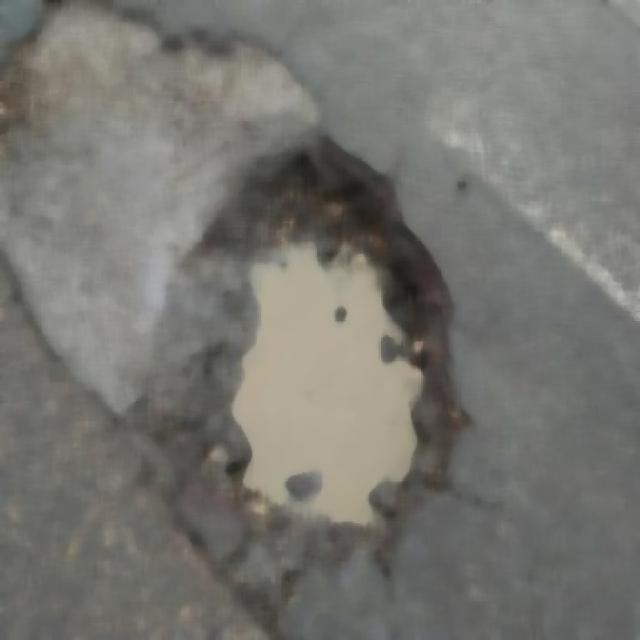Pothole: (218, 140, 424, 582)
